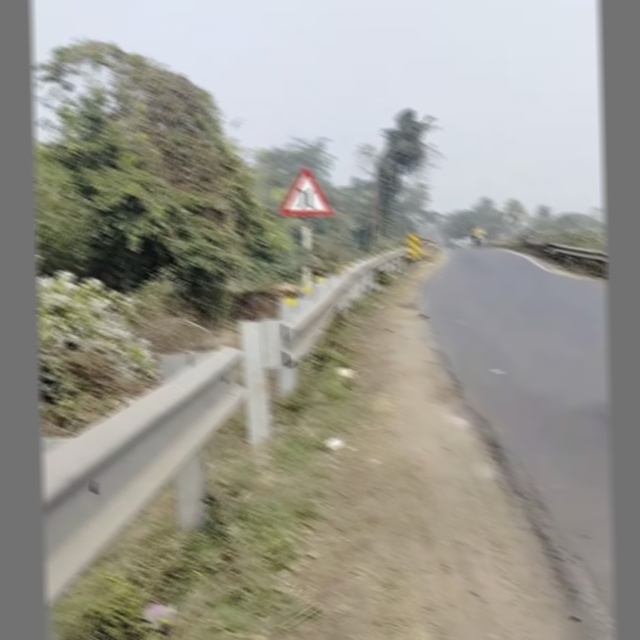Narrow_Bridge: (281, 166, 332, 217)
